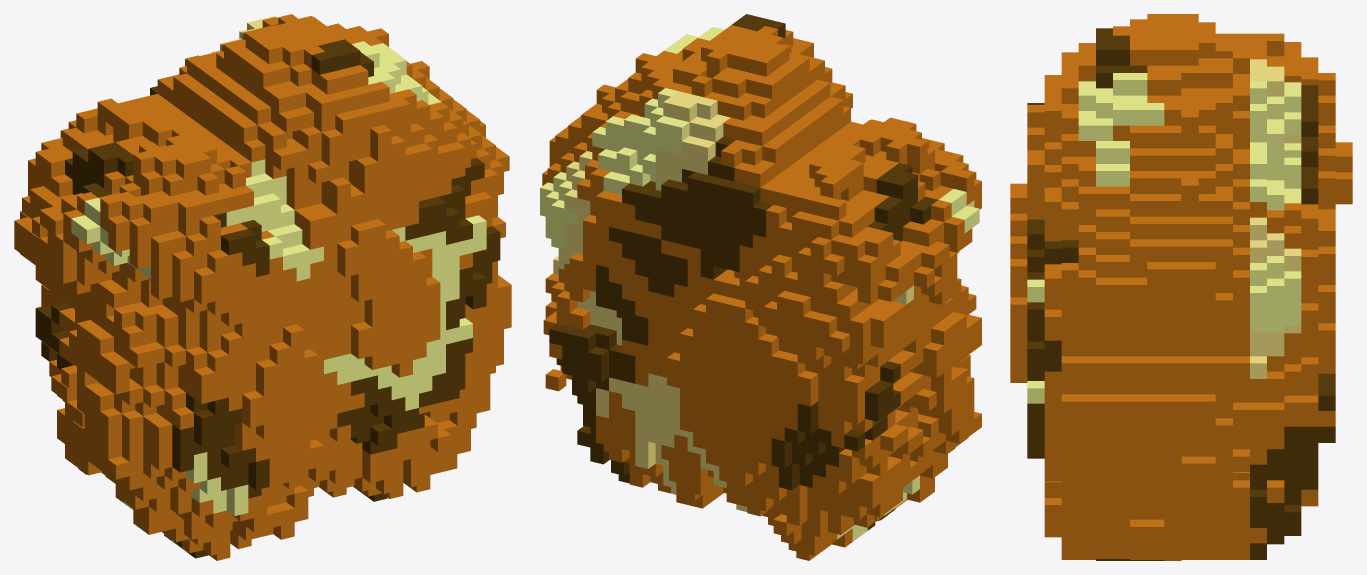
The model's file is karaage.fbx.
3 renders of one model, left to right at view 1: azimuth 30°, elevation 25°; view 2: azimuth 150°, elevation 25°; view 3: azimuth 270°, elevation 25°, orthographic. The views are drawn at different scales.
Visible parts, largest first — view 1: ObjObject; view 2: ObjObject; view 3: ObjObject.
Part boxes in pixels (box(x1,y1,x2,y2)): ObjObject: box(14, 14, 511, 560); ObjObject: box(540, 14, 981, 560); ObjObject: box(1010, 14, 1352, 560).
Bounding box in the file's own units: 300 × 340 × 200.
Materials: 1 (1 with a texture image).
